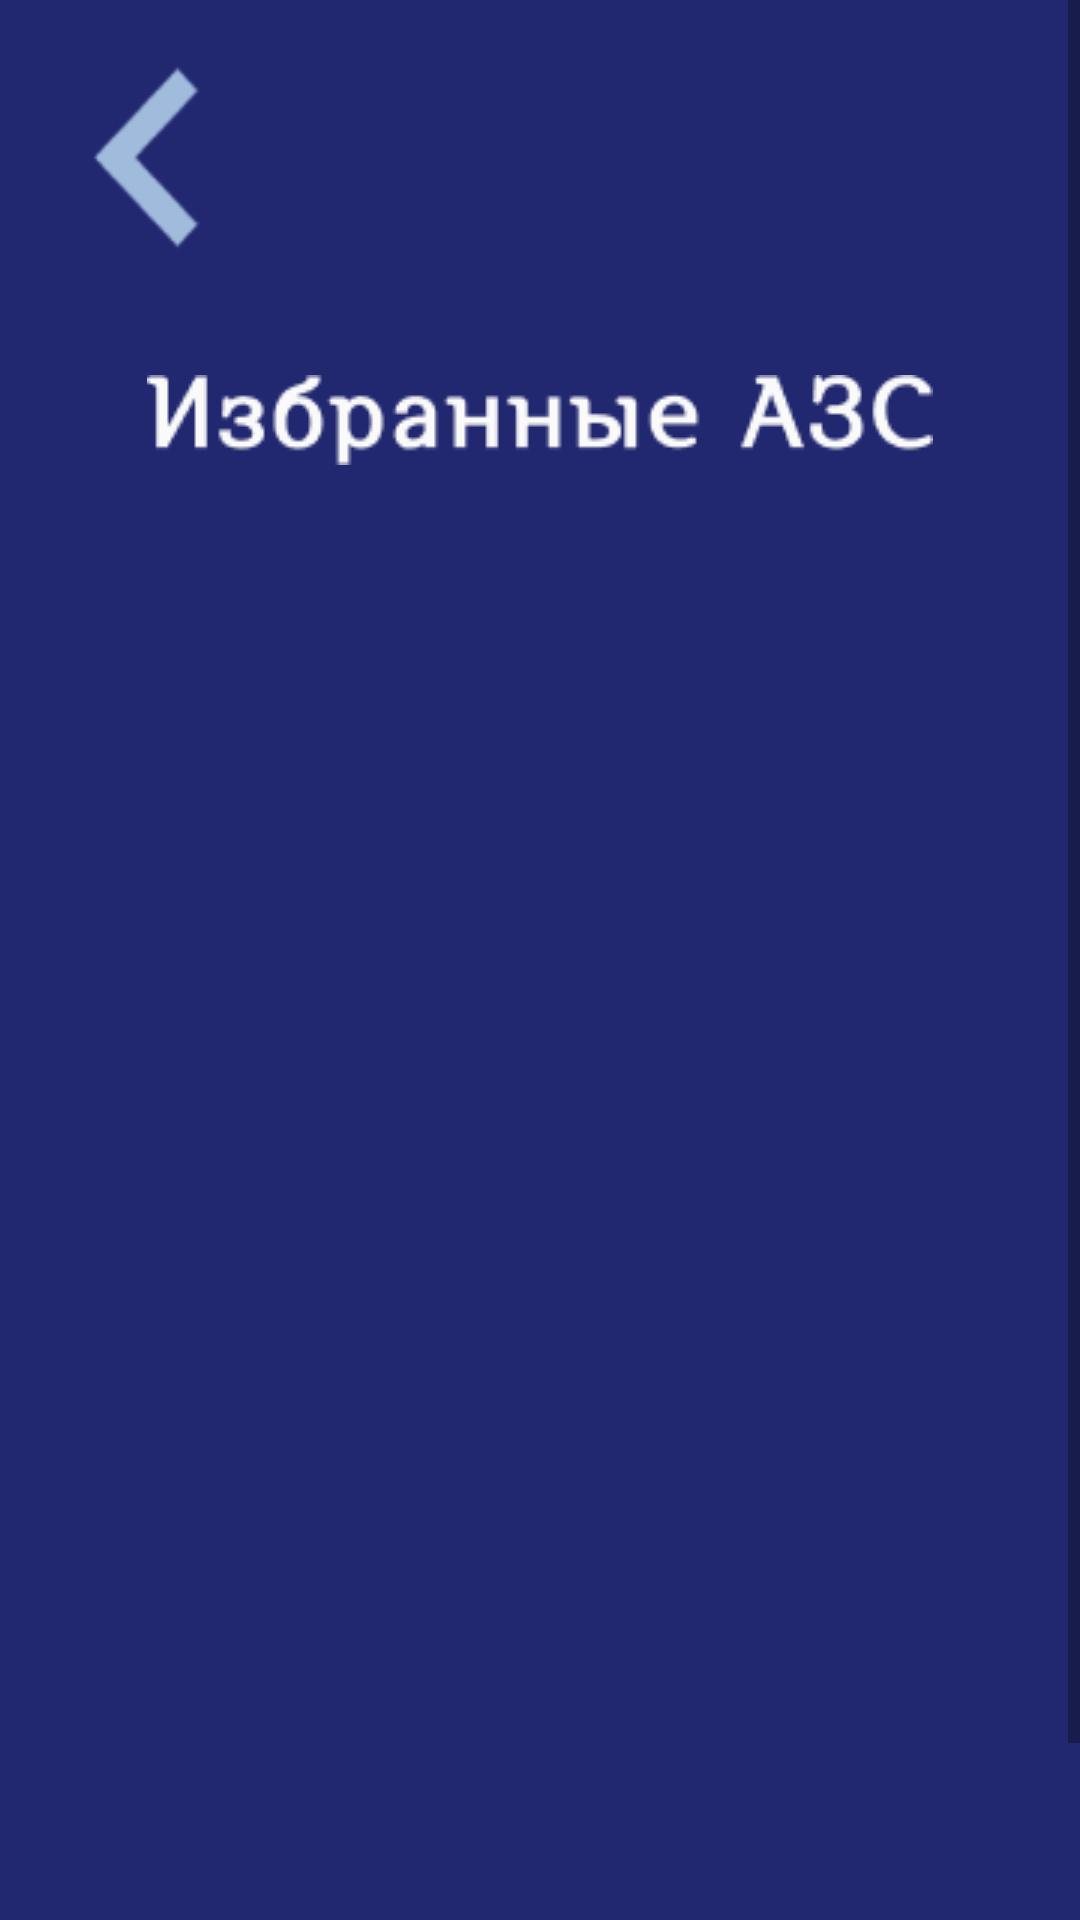

Locate icon controls on the screen. Image size 1080 x 1920, boxes as (x1=x1, y1=y1, x2=x2, y2=y2).
back: (x1=94, y1=68, x2=198, y2=247)
